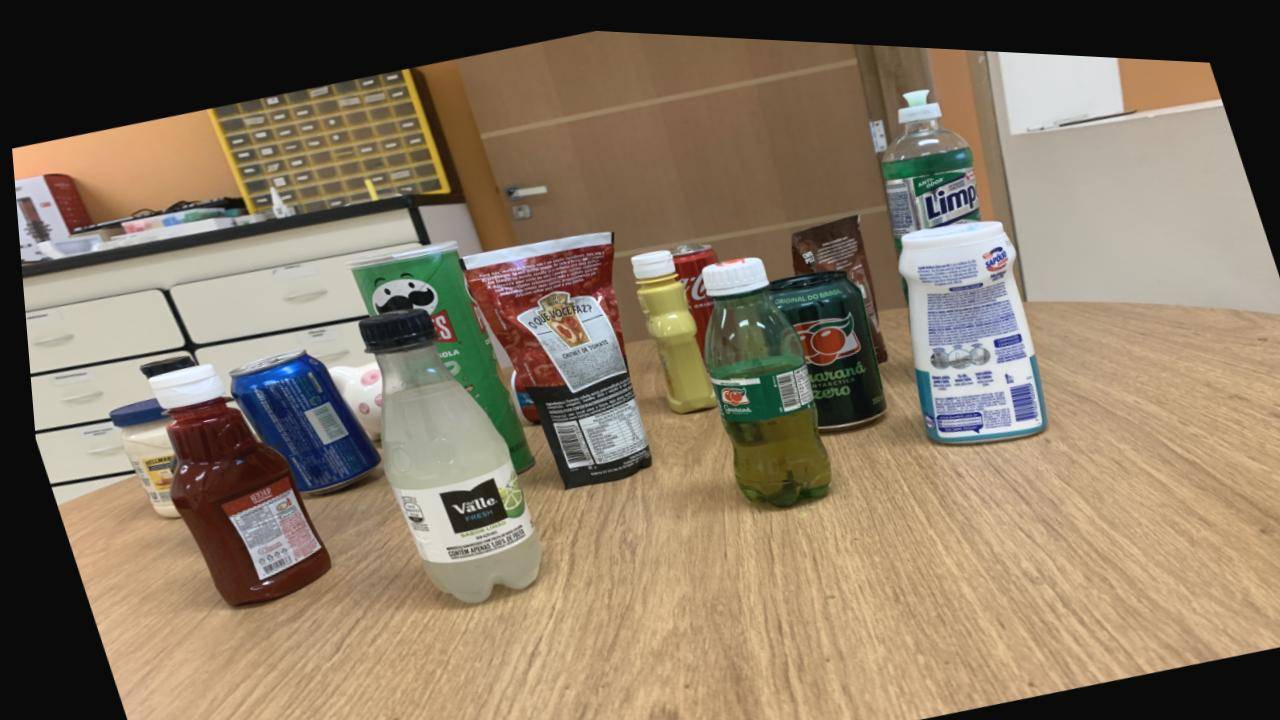Cleaner-Cleanup_Items: (895, 210, 1042, 434)
Coffee-Pantry_Items: (787, 205, 883, 353)
Coke-Drinks: (668, 235, 715, 345)
Detergent-Cleanup_Items: (879, 80, 979, 242)
Guarana-Drinks: (697, 249, 824, 499), (763, 261, 880, 425)
Guarana_Can-Drinks: (763, 261, 881, 424)
Ketchup-Pantry_Items: (142, 362, 322, 604)
Mayonnaise-Pantry_Items: (102, 397, 171, 517)
Mustard-Pantry_Items: (627, 243, 710, 407)
Pig_Safe-Miscellaneous: (324, 358, 377, 437)
Pringles-Snacks: (344, 236, 527, 467)
Soda-Drinks: (353, 304, 533, 598)
Tomato_Sauce-Pantry_Items: (459, 226, 645, 482)
Tonic-Drinks: (223, 346, 373, 492)
